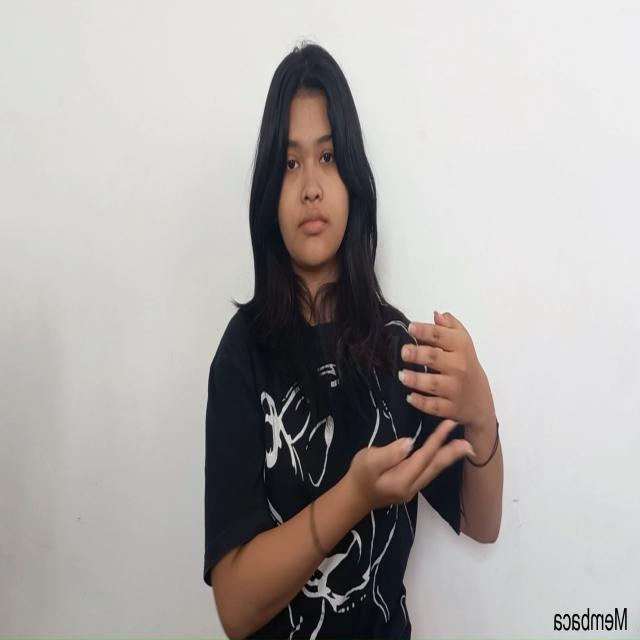Membaca -BISINDO-: (350, 310, 490, 514)
